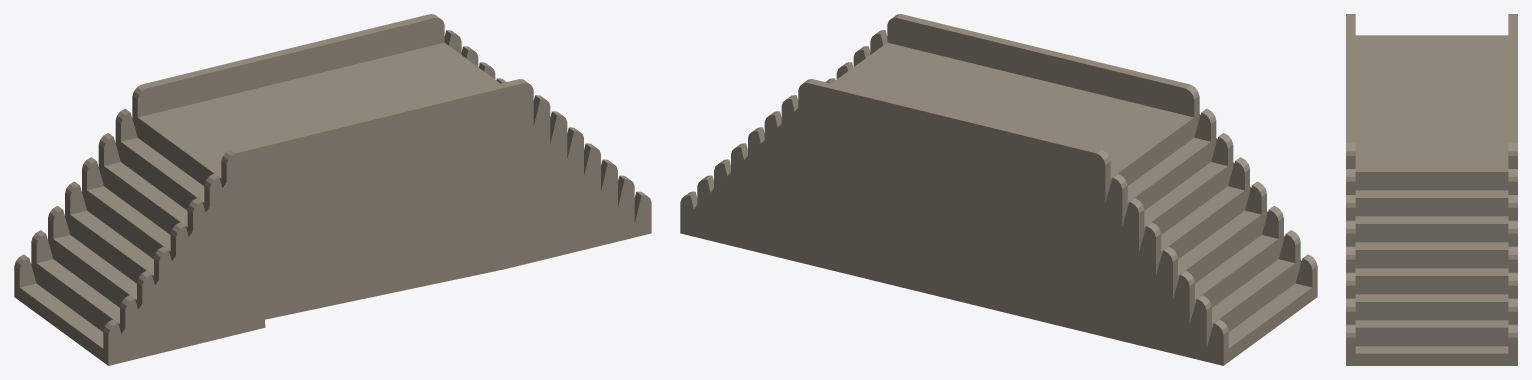
The model's file is PuenteAR (1).fbx.
The picture shows the model from 3 angles, left to right: view 1: azimuth 30°, elevation 25°; view 2: azimuth 150°, elevation 25°; view 3: azimuth 270°, elevation 25°; orthographic projection. The views are drawn at different scales.
Parts seen in each view (by area): view 1: Cube; view 2: Cube; view 3: Cube.
Part boxes in pixels (box(x1,y1,x2,y2)): Cube: box(14, 14, 651, 365); Cube: box(680, 14, 1317, 365); Cube: box(1346, 14, 1517, 365).
Size of the model in its own units: 1409 by 450 by 423.
